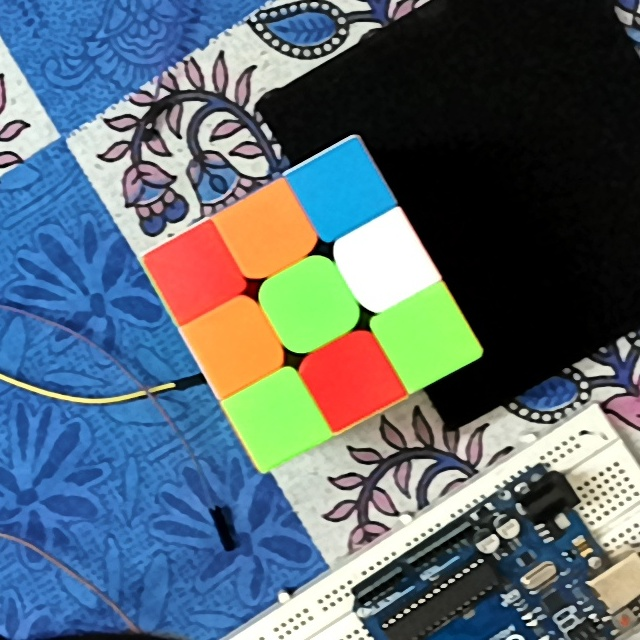tile: (391, 309, 458, 367), (278, 273, 340, 333), (352, 235, 414, 294), (208, 315, 266, 374), (248, 390, 306, 449), (321, 348, 379, 407), (163, 246, 224, 301), (311, 163, 370, 217), (236, 208, 293, 263)
